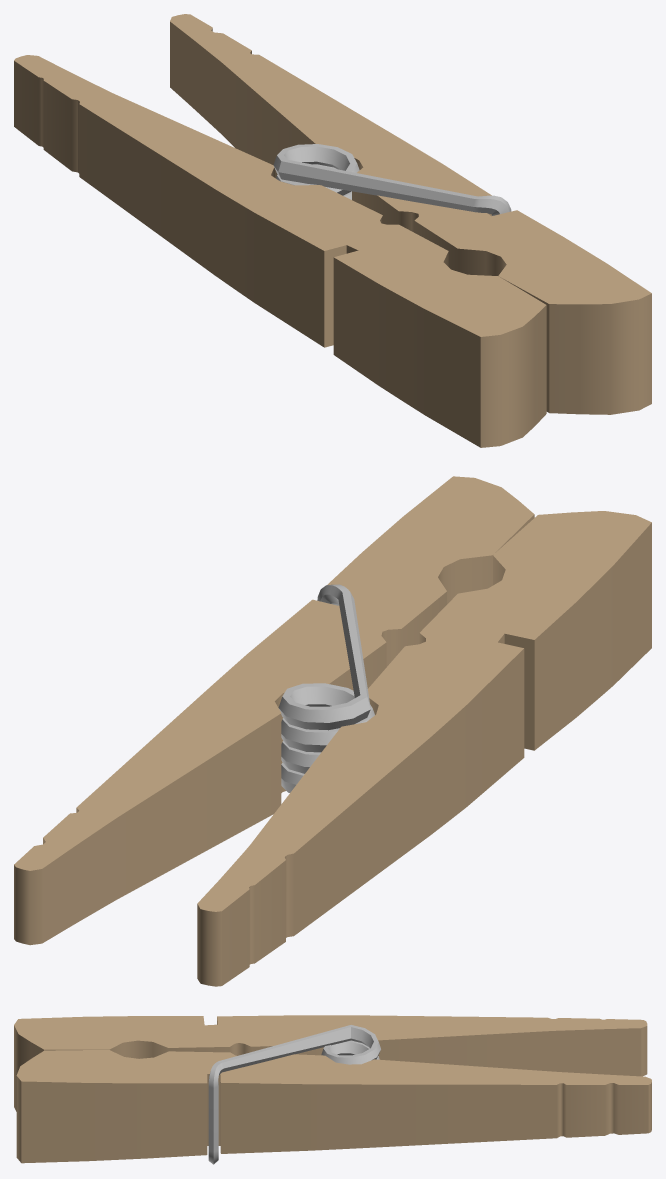
Rendered from Geo_clothesPin.fbx.
The picture shows the model from 3 angles, top to bottom: view 1: azimuth 30°, elevation 25°; view 2: azimuth 150°, elevation 25°; view 3: azimuth 270°, elevation 25°; orthographic projection. The views are drawn at different scales.
Parts seen in each view (by area): view 1: basketLaundry_high:clothesPin, basketLaundry_high:clothesPinMetalSrping; view 2: basketLaundry_high:clothesPin, basketLaundry_high:clothesPinMetalSrping; view 3: basketLaundry_high:clothesPin, basketLaundry_high:clothesPinMetalSrping.
Part boxes in pixels (x1=…): basketLaundry_high:clothesPin: x1=14, y1=14, x2=651, y2=447; basketLaundry_high:clothesPinMetalSrping: x1=273, y1=144, x2=511, y2=215; basketLaundry_high:clothesPin: x1=14, y1=476, x2=651, y2=986; basketLaundry_high:clothesPinMetalSrping: x1=278, y1=584, x2=374, y2=792; basketLaundry_high:clothesPin: x1=14, y1=1015, x2=651, y2=1163; basketLaundry_high:clothesPinMetalSrping: x1=208, y1=1025, x2=380, y2=1164.
Bounding box in the file's own units: 3.8 × 2.24 × 13.1.
